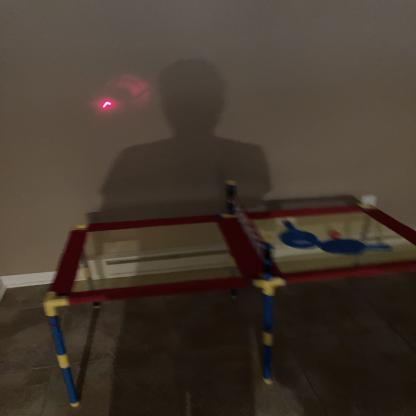target: (97, 97, 119, 109)
